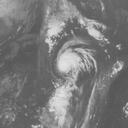cyclone: (48, 41, 93, 119)
